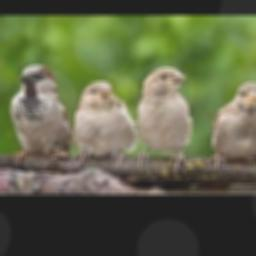Sparrow: (9, 63, 72, 164), (134, 67, 191, 172), (73, 80, 136, 163), (209, 81, 256, 171)
